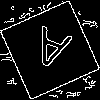A: (25, 25, 73, 80)
